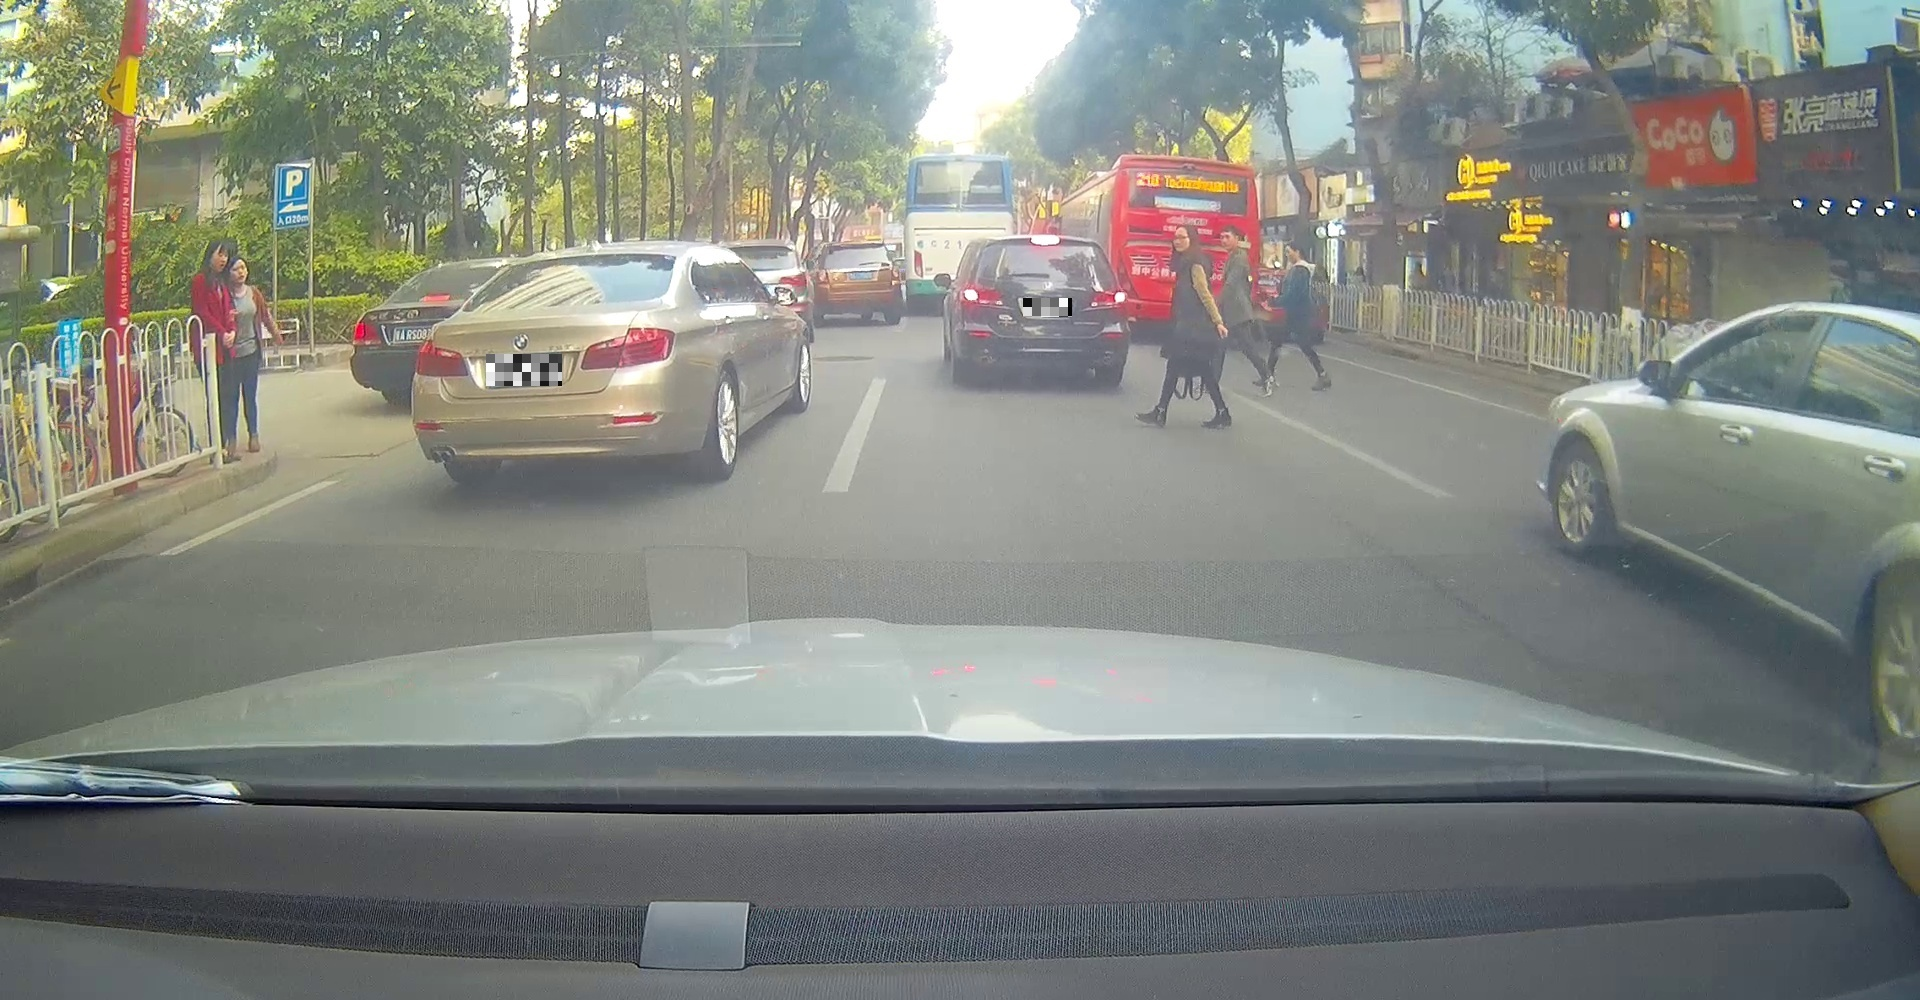L_light: (414, 340, 469, 377), (957, 282, 1001, 308), (815, 270, 829, 286)
R_light: (580, 327, 676, 371), (1090, 286, 1129, 310), (879, 268, 897, 280)
T_light: (1029, 234, 1062, 247), (577, 256, 604, 265), (850, 247, 866, 253)
day-brake: (957, 234, 1129, 390)
day-no: (411, 242, 690, 489), (815, 242, 899, 324)
plate_1: (486, 354, 563, 386)
plate_2: (1023, 298, 1072, 317)
